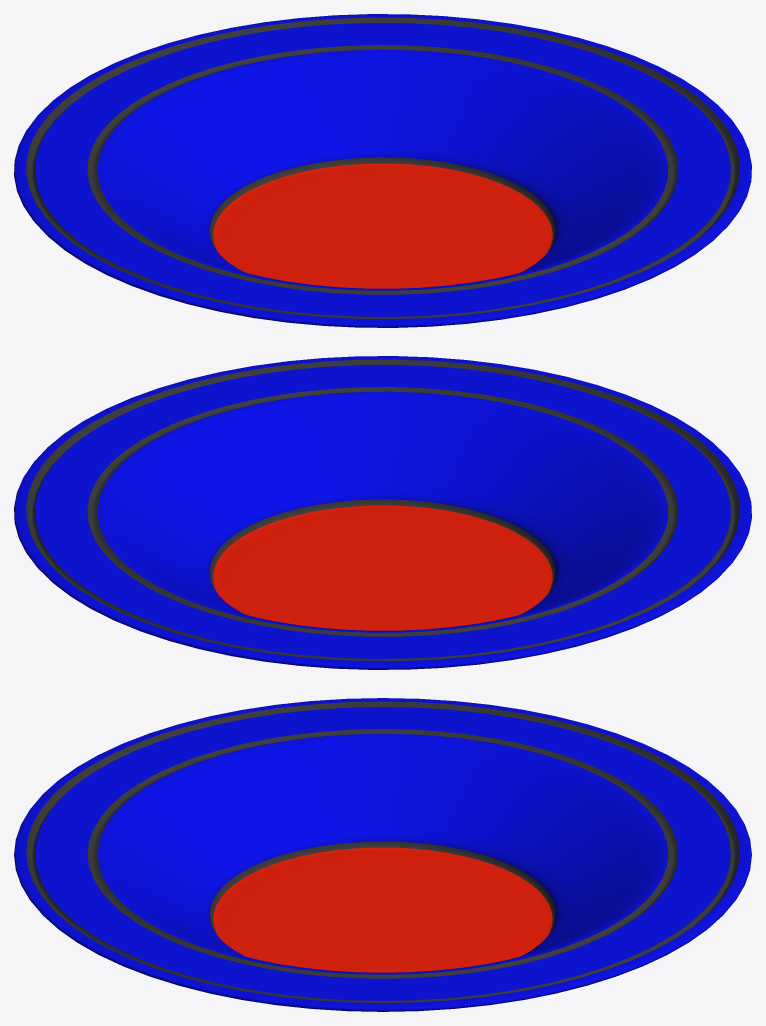
File: TitheBowl.fbx
3 renders of one model, top to bottom at view 1: azimuth 30°, elevation 25°; view 2: azimuth 150°, elevation 25°; view 3: azimuth 270°, elevation 25°, orthographic.
Visible parts, largest first — view 1: Circle; view 2: Circle; view 3: Circle.
Part boxes in pixels (bbox=[...]): Circle: bbox=[14, 14, 751, 327]; Circle: bbox=[14, 356, 751, 669]; Circle: bbox=[14, 698, 751, 1011].
Size of the model in its own units: 349 by 35.11 by 349.
